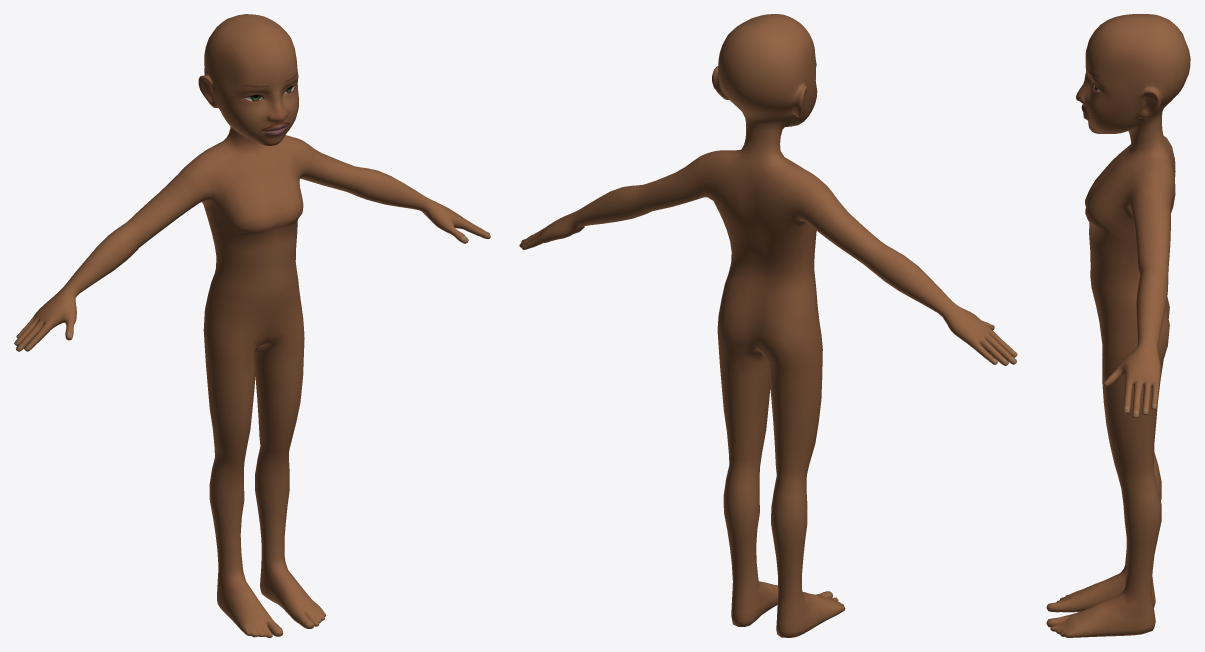
Rendered from frame_0002.glb.
The picture shows the model from 3 angles, left to right: view 1: azimuth 30°, elevation 25°; view 2: azimuth 150°, elevation 25°; view 3: azimuth 270°, elevation 25°; orthographic projection. The views are drawn at different scales.
Visible parts, largest first — view 1: frame_0002_head_geo; view 2: frame_0002_head_geo; view 3: frame_0002_head_geo.
Part boxes in pixels (<box>): frame_0002_head_geo: <box>14,14,490,637</box>; frame_0002_head_geo: <box>519,14,1017,637</box>; frame_0002_head_geo: <box>1046,14,1190,637</box>.
Bounding box in the file's own units: 1.28 × 1.5 × 0.3253.
Materials: 3 (3 with a texture image).
